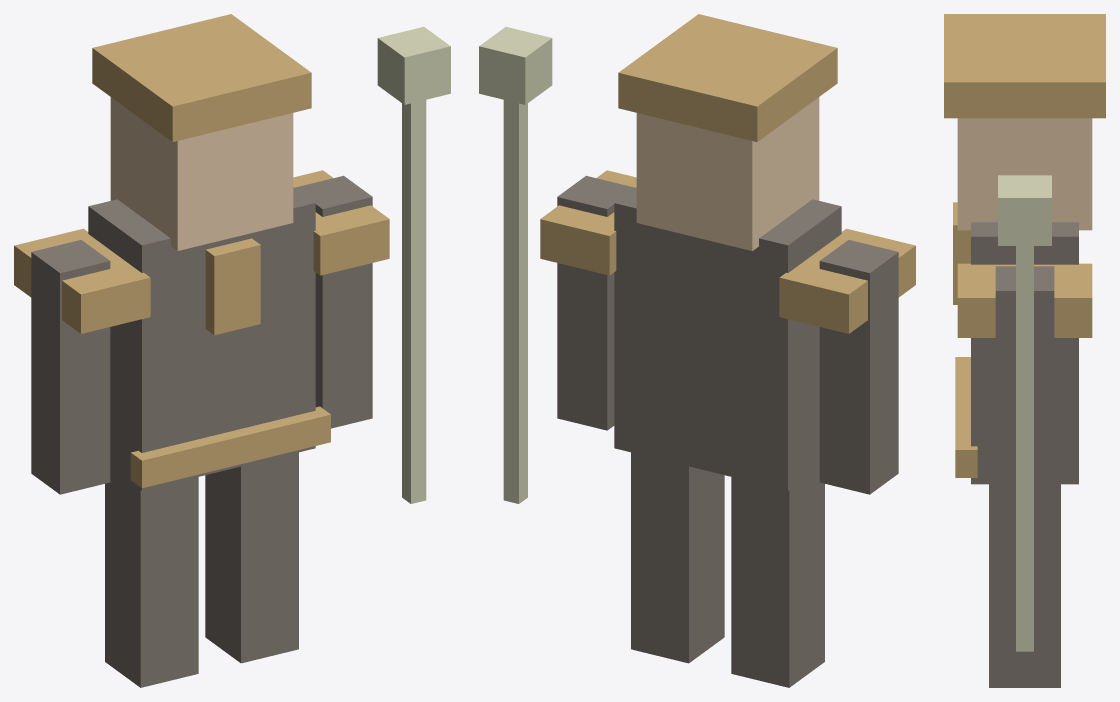
Rendered from 07_ilyra_cinderholt_smith_from_bone_metal.glb.
3 views of the same model, side by side, from view 1: azimuth 30°, elevation 25°; view 2: azimuth 150°, elevation 25°; view 3: azimuth 270°, elevation 25° (orthographic).
Visible parts, largest first — view 1: Ilyra Cinderholt, Smith from Bone-Metal; view 2: Ilyra Cinderholt, Smith from Bone-Metal; view 3: Ilyra Cinderholt, Smith from Bone-Metal.
Part boxes in pixels (left/top/right/bottom): Ilyra Cinderholt, Smith from Bone-Metal: left=14, top=14, right=450, bottom=687; Ilyra Cinderholt, Smith from Bone-Metal: left=479, top=14, right=915, bottom=687; Ilyra Cinderholt, Smith from Bone-Metal: left=944, top=14, right=1105, bottom=687.
Bounding box in the file's own units: 1 × 1.46 × 0.3562.
